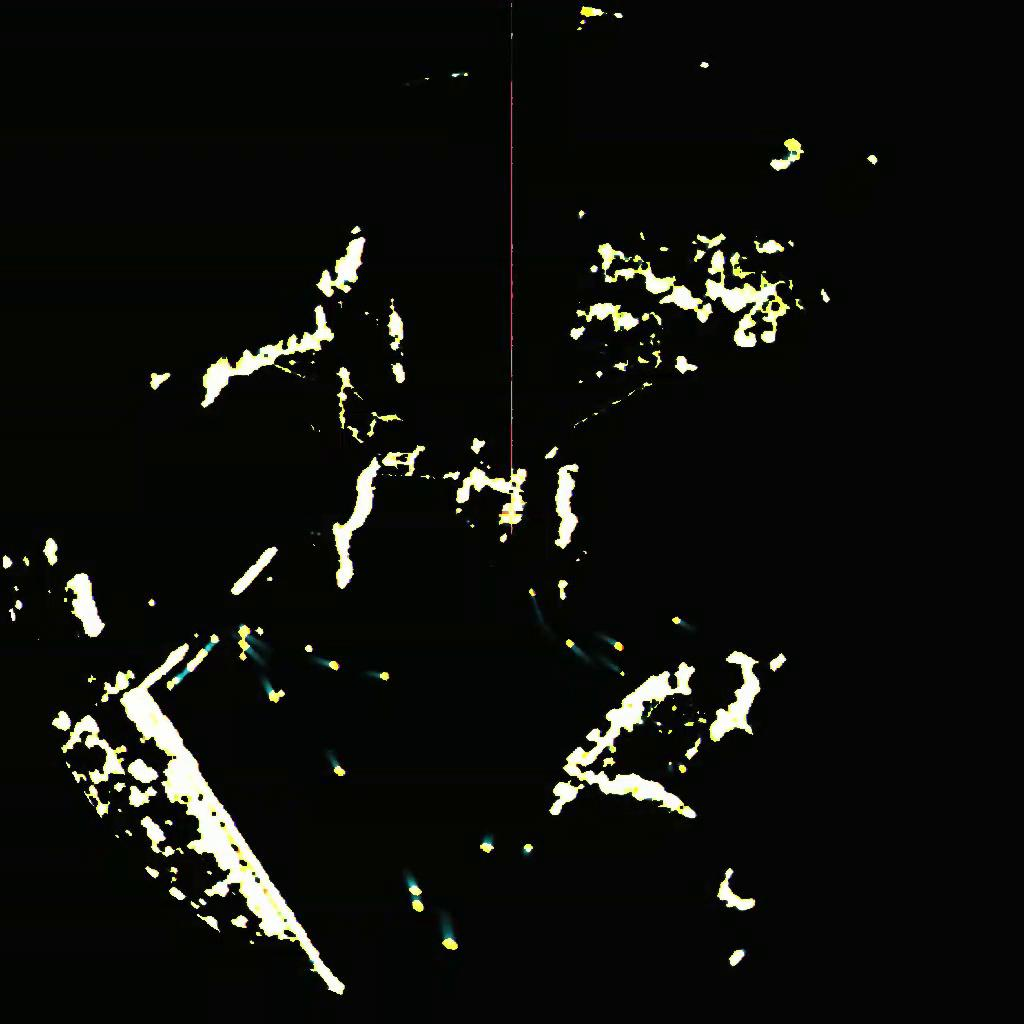B: (235, 622, 268, 649), (237, 638, 266, 664), (441, 913, 459, 951), (261, 677, 281, 703), (327, 751, 347, 777), (312, 655, 340, 672), (565, 638, 587, 659), (603, 657, 626, 677), (600, 634, 625, 652), (405, 872, 422, 896), (527, 587, 540, 613), (479, 833, 494, 854), (366, 670, 390, 682), (205, 631, 220, 650), (411, 893, 425, 913), (671, 615, 689, 626)
